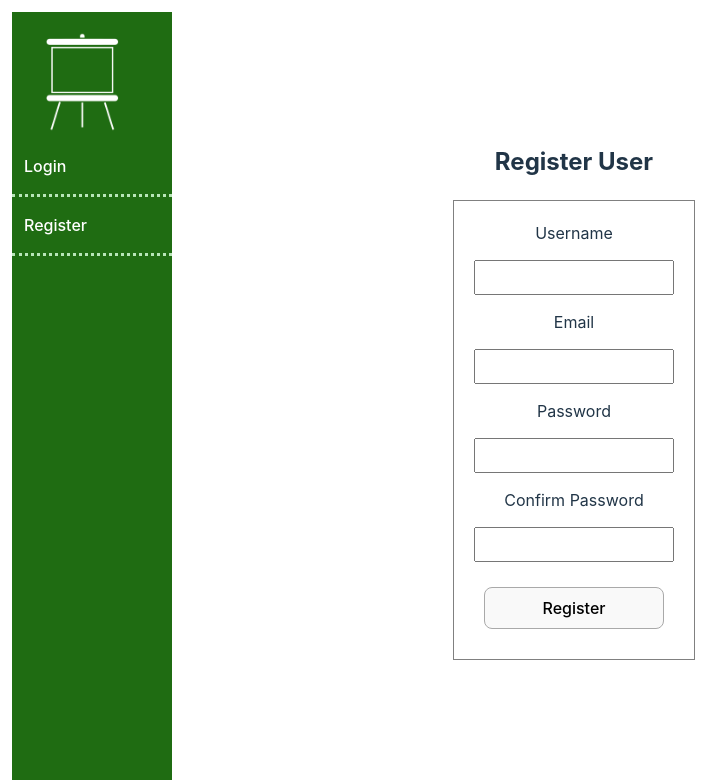
it: User Registration › Fails with mismatched passwords
Type "testuser3" into the field with id "username". click: (574, 278)
box: [474,260,674,295]
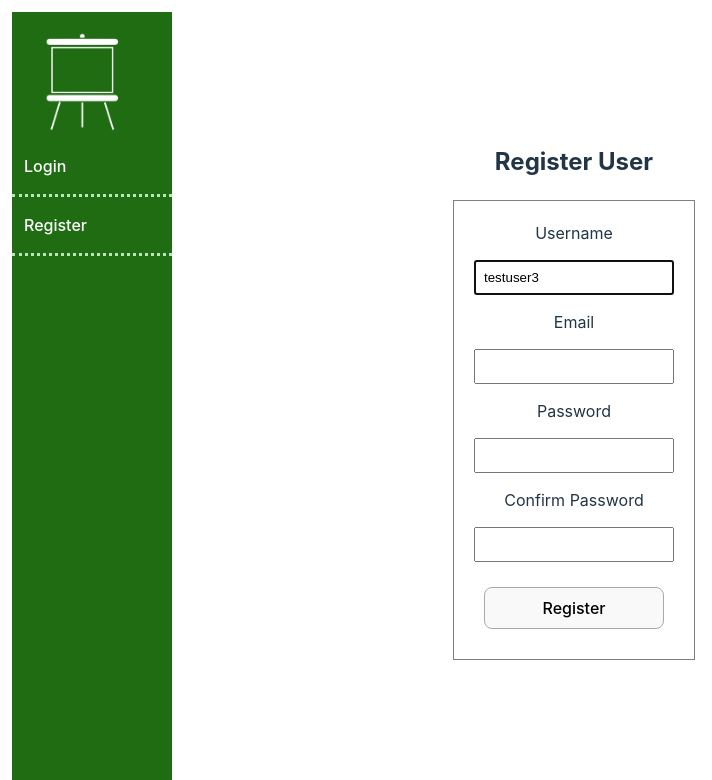
Type "test3@example.com" into the field with id "email". click: (574, 367)
box: [474,349,674,384]
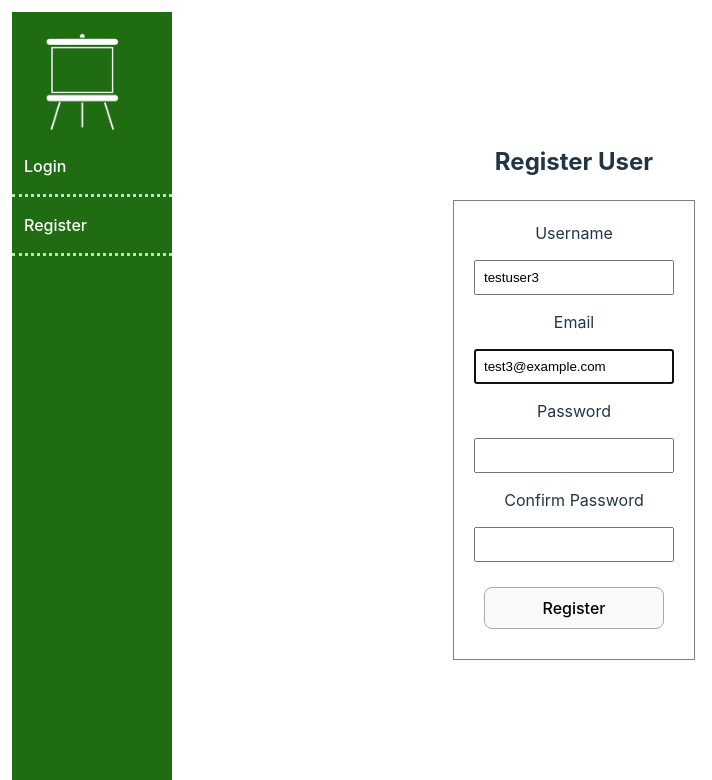
Type "SecurePass123!" into the password field labelled "Password". click: (574, 456)
box: [474,438,674,473]
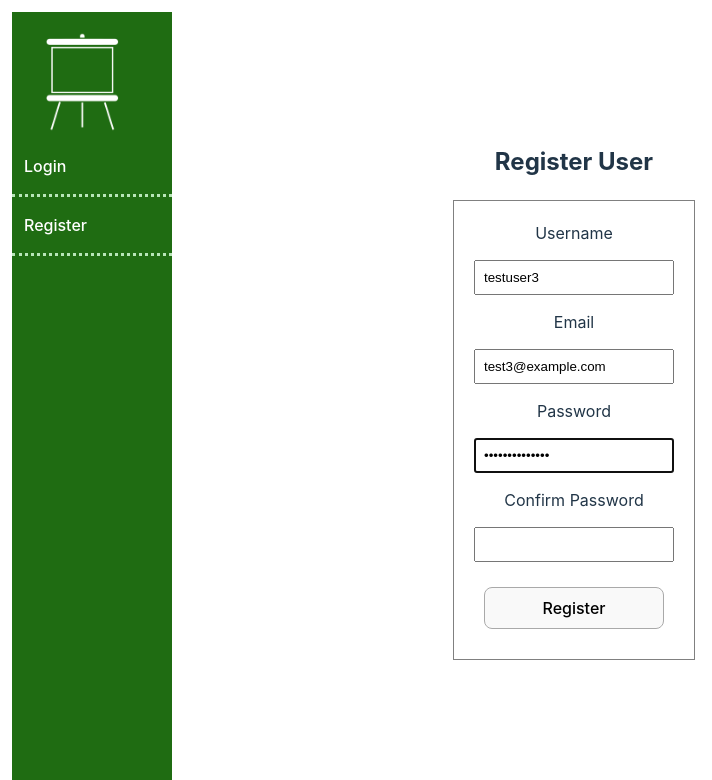
Type "DifferentPass!" into the password field with id "confirmPassword". click: (574, 545)
box: [474,527,674,562]
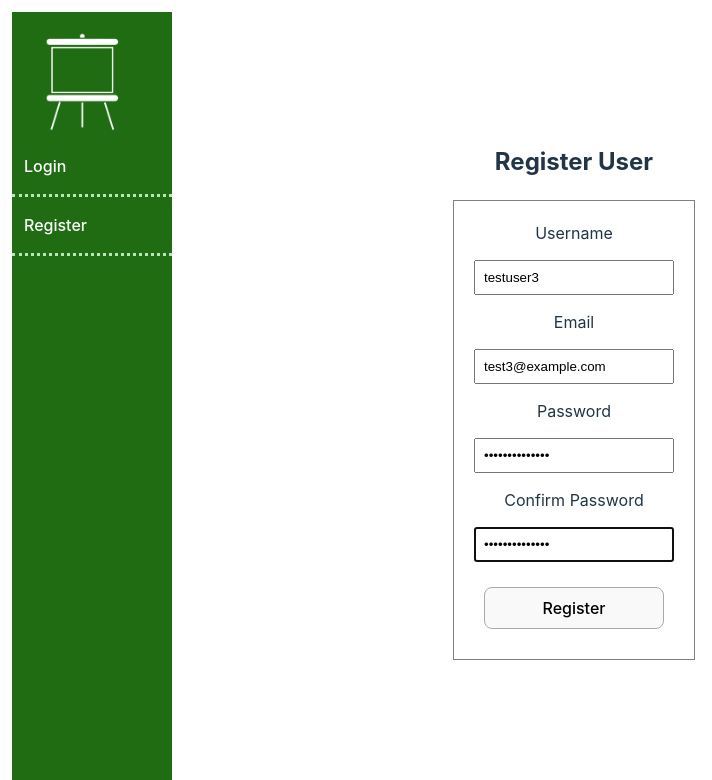
Click the submit button. click: (574, 608)
box: [484,587,664,628]
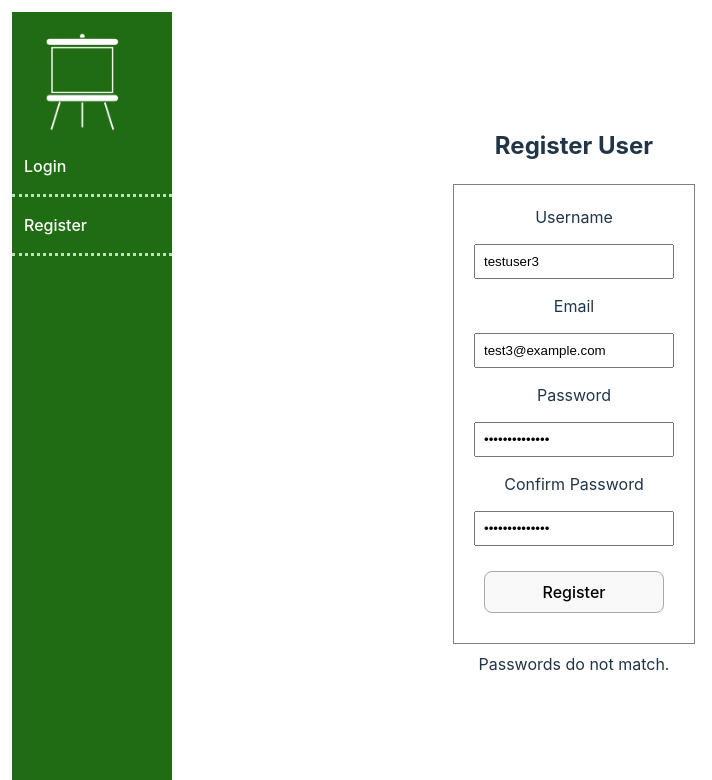
expect the text "Passwords do not match." is shown: met, box [478,654,670,674]
